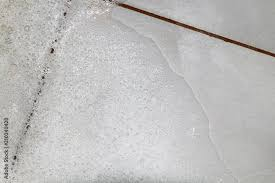Wet-floor: (34, 70, 244, 183), (0, 3, 143, 88)
